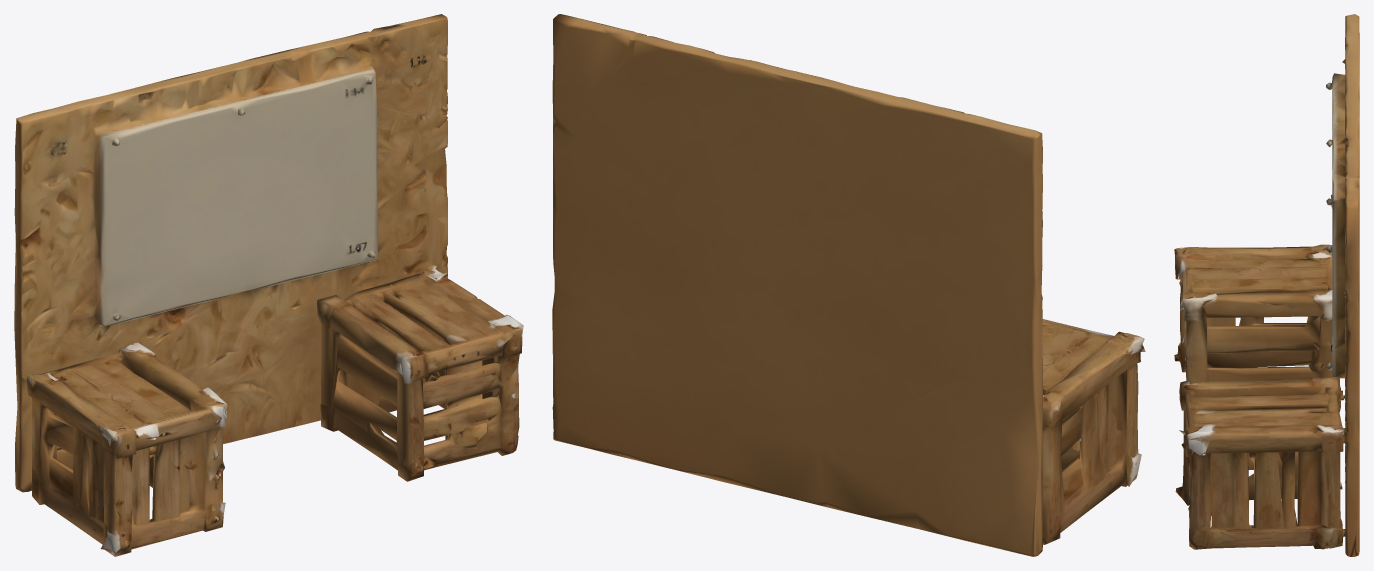
File: level1-zephyr-barricade.glb
3 views of the same model, side by side, from view 1: azimuth 30°, elevation 25°; view 2: azimuth 150°, elevation 25°; view 3: azimuth 270°, elevation 25° (orthographic). The views are drawn at different scales.
Visible parts, largest first — view 1: tripo_node_2ba4d8e2-0211-4b85-b025-eb97d3c5a2c4; view 2: tripo_node_2ba4d8e2-0211-4b85-b025-eb97d3c5a2c4; view 3: tripo_node_2ba4d8e2-0211-4b85-b025-eb97d3c5a2c4.
Boxes of the visible parts, bbox=[...] form: tripo_node_2ba4d8e2-0211-4b85-b025-eb97d3c5a2c4: bbox=[14, 14, 523, 556]; tripo_node_2ba4d8e2-0211-4b85-b025-eb97d3c5a2c4: bbox=[552, 14, 1145, 556]; tripo_node_2ba4d8e2-0211-4b85-b025-eb97d3c5a2c4: bbox=[1174, 14, 1359, 556].
Bounding box in the file's own units: 0.9827 × 0.814 × 0.3917.
Materials: 1 (1 with a texture image).
